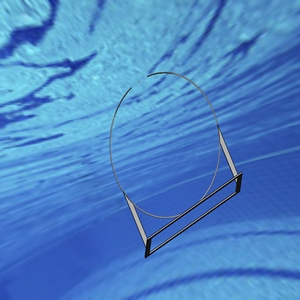circle: (107, 69, 245, 256)
